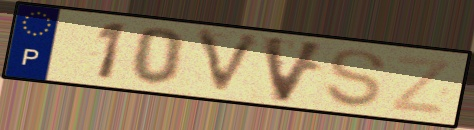0: (129, 25, 188, 88)
1: (89, 19, 130, 81)
S: (321, 47, 389, 110)
V: (193, 27, 267, 100), (260, 33, 331, 106)
Z: (387, 53, 455, 118)
